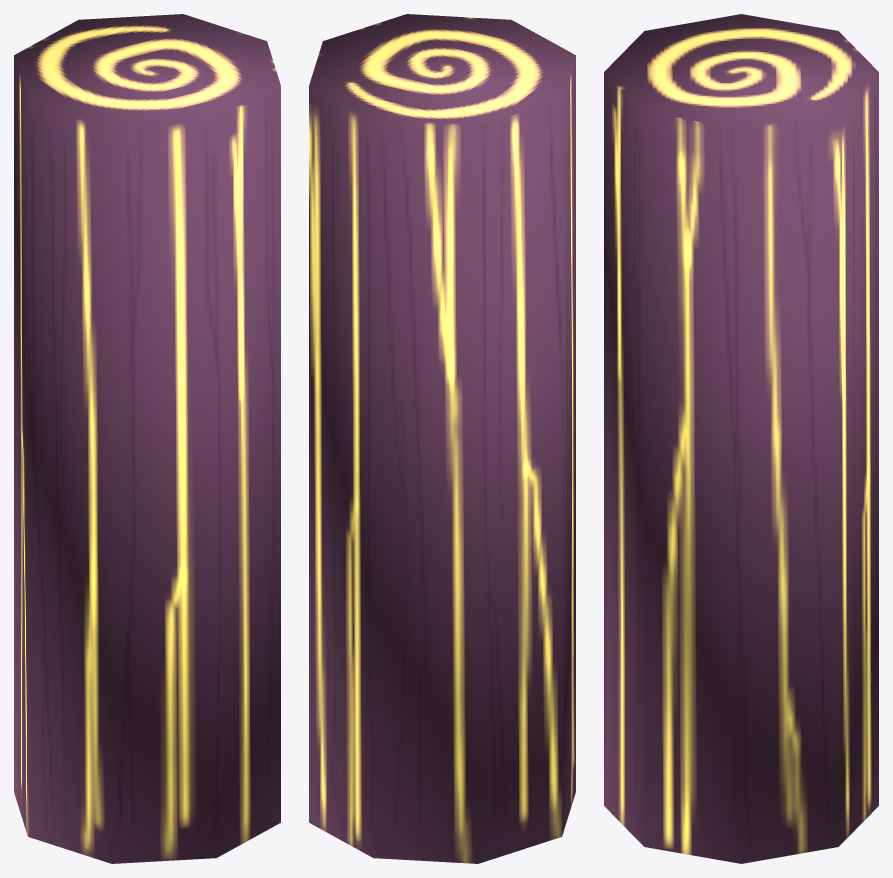
File: เสา.fbx
3 views of the same model, side by side, from view 1: azimuth 30°, elevation 25°; view 2: azimuth 150°, elevation 25°; view 3: azimuth 270°, elevation 25° (orthographic).
Parts seen in each view (by area): view 1: Cylinder.002; view 2: Cylinder.002; view 3: Cylinder.002.
Boxes of the visible parts, x1,y1,x2,y2 form: Cylinder.002: [14, 14, 280, 863]; Cylinder.002: [309, 14, 575, 863]; Cylinder.002: [604, 14, 878, 863].
Bounding box in the file's own units: 281 × 827 × 281.
Materials: 1 (1 with a texture image).
